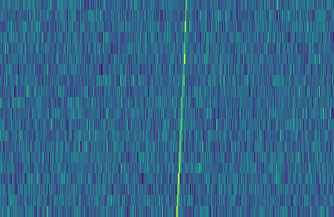signal: (172, 0, 190, 217)
